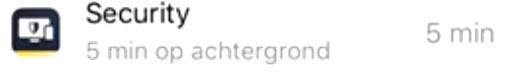name: (79, 1, 201, 32)
time: (80, 39, 153, 66)
